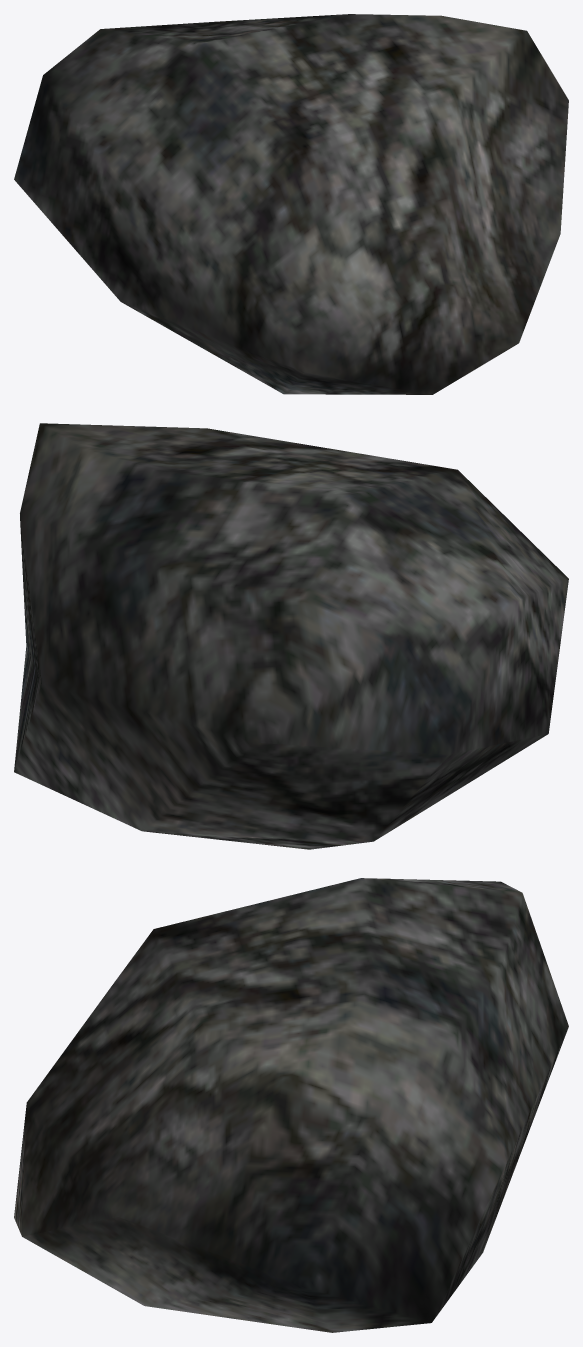
Rendered from stone_small01.dae.
3 renders of one model, top to bottom at view 1: azimuth 30°, elevation 25°; view 2: azimuth 150°, elevation 25°; view 3: azimuth 270°, elevation 25°, orthographic. The views are drawn at different scales.
Visible parts, largest first — view 1: stone_small01_mesh; view 2: stone_small01_mesh; view 3: stone_small01_mesh.
Boxes of the visible parts, <box> form: stone_small01_mesh: <box>14,14,568,394</box>; stone_small01_mesh: <box>14,423,568,849</box>; stone_small01_mesh: <box>14,878,568,1332</box>.
Bounding box in the file's own units: 0.3325 × 0.2055 × 0.3107.
